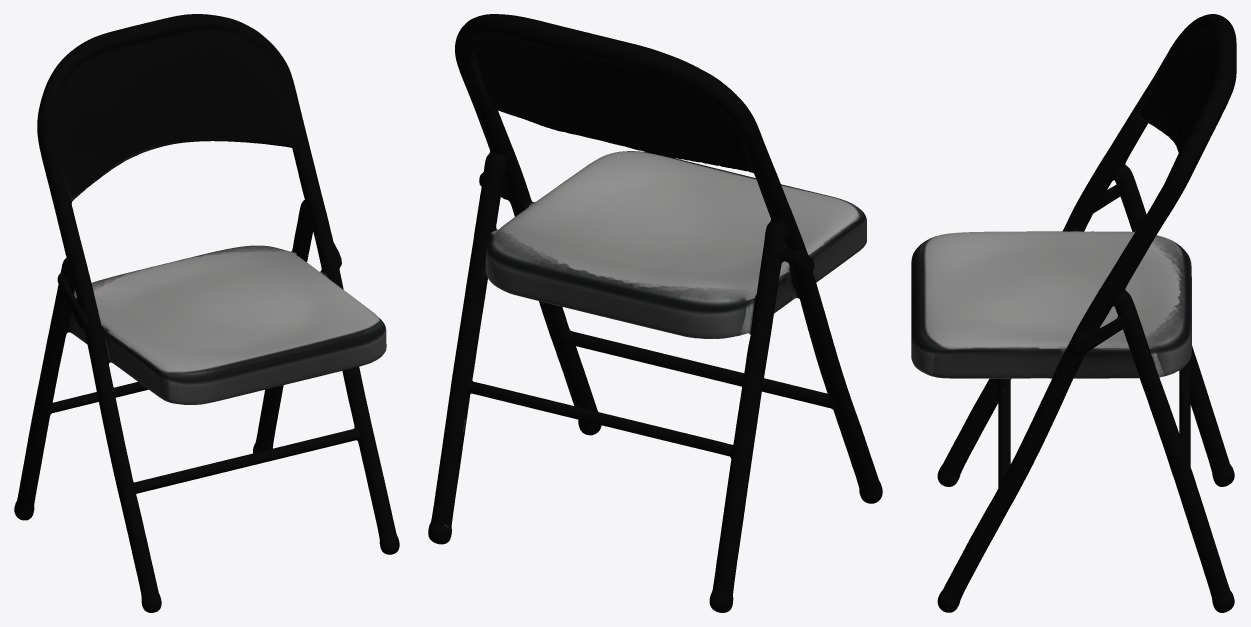
Rendered from chair__chair#4.glb.
The picture shows the model from 3 angles, left to right: view 1: azimuth 30°, elevation 25°; view 2: azimuth 150°, elevation 25°; view 3: azimuth 270°, elevation 25°; orthographic projection. The views are drawn at different scales.
Parts seen in each view (by area): view 1: tmpq5la1ozx.ply; view 2: tmpq5la1ozx.ply; view 3: tmpq5la1ozx.ply.
Boxes of the visible parts, x1,y1,x2,y2 form: tmpq5la1ozx.ply: [14, 14, 399, 612]; tmpq5la1ozx.ply: [428, 14, 882, 612]; tmpq5la1ozx.ply: [911, 14, 1236, 612].
Size of the model in its own units: 1.16 by 1.99 by 1.17.
1 material, 1 textured.
